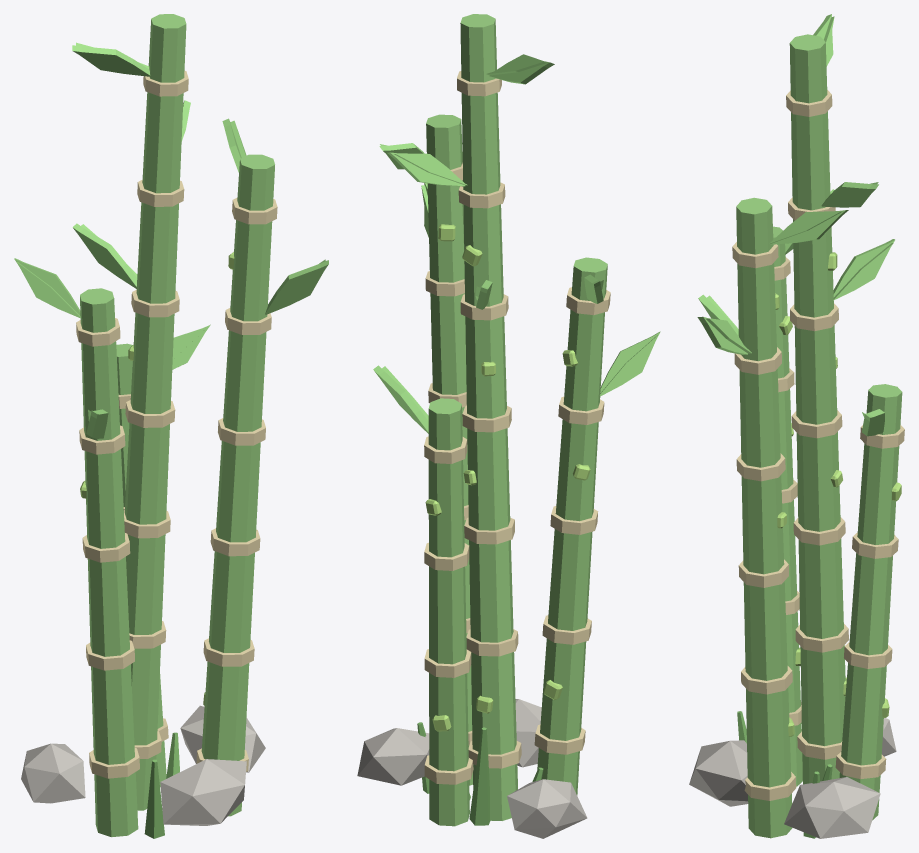
File: SamuraiBambooGrove.fbx
3 renders of one model, left to right at view 1: azimuth 30°, elevation 25°; view 2: azimuth 150°, elevation 25°; view 3: azimuth 270°, elevation 25°, orthographic.
Visible parts, largest first — view 1: SamuraiBambooGrove.Stalks, SamuraiBambooGrove.Bands, SamuraiBambooGrove.Stones, SamuraiBambooGrove.Leaves, SamuraiBambooGrove.Shoots; view 2: SamuraiBambooGrove.Stalks, SamuraiBambooGrove.Bands, SamuraiBambooGrove.Stones, SamuraiBambooGrove.Leaves, SamuraiBambooGrove.Studs, SamuraiBambooGrove.Shoots; view 3: SamuraiBambooGrove.Stalks, SamuraiBambooGrove.Bands, SamuraiBambooGrove.Stones, SamuraiBambooGrove.Leaves, SamuraiBambooGrove.Studs, SamuraiBambooGrove.Shoots.
Part boxes in pixels (x1,y1,x2,y2): SamuraiBambooGrove.Stalks: (80,14,274,837); SamuraiBambooGrove.Bands: (76,71,277,778); SamuraiBambooGrove.Stones: (21,705,265,825); SamuraiBambooGrove.Leaves: (14,42,328,438); SamuraiBambooGrove.Shoots: (144,732,179,838); SamuraiBambooGrove.Stalks: (426,14,607,826); SamuraiBambooGrove.Bands: (424,71,610,784); SamuraiBambooGrove.Stones: (357,699,587,838); SamuraiBambooGrove.Leaves: (373,54,660,433); SamuraiBambooGrove.Studs: (425,224,590,731); SamuraiBambooGrove.Shoots: (417,722,543,825); SamuraiBambooGrove.Stalks: (736,34,902,838); SamuraiBambooGrove.Bands: (732,90,904,800); SamuraiBambooGrove.Stones: (689,718,896,838); SamuraiBambooGrove.Leaves: (697,14,894,436); SamuraiBambooGrove.Studs: (775,252,901,736); SamuraiBambooGrove.Shoots: (737,711,832,838).
Bounding box in the file's own units: 3.04 × 9.23 × 2.34.
